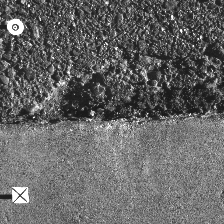circle: (6, 19, 24, 34)
crack: (1, 99, 223, 127)
square: (11, 187, 29, 203)
